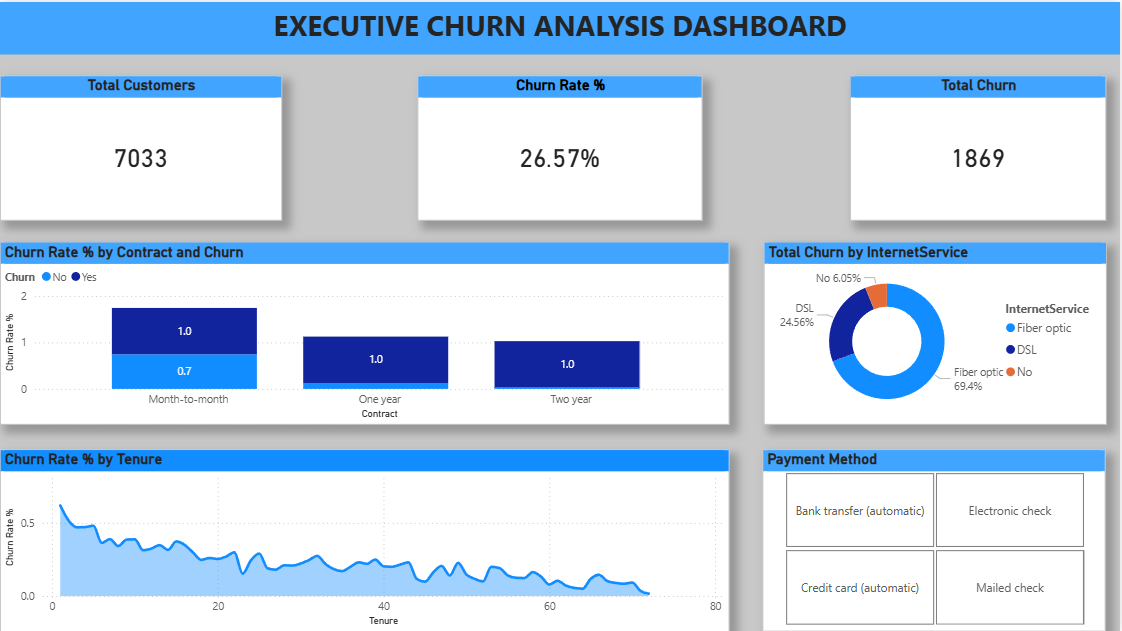

Layout of this report page (visuals, bound fields, positions):
{"tool":"powerbi","page":{"name":"Page 1","canvas":[1280,720],"ordinal":0},"visuals":[{"type":"card","title":"Churn Rate %","fields":{"Values":["final_churn_for_bi.Churn Rate %"]},"box":[476.5,84.5,325.7,165.3],"z":0},{"type":"card","title":"Total Customers","fields":{"Values":["final_churn_for_bi.Total Customers"]},"box":[0,84.5,322.1,165.3],"z":1000},{"type":"columnChart","fields":{"Category":["final_churn_for_bi.Contract"],"Y":["final_churn_for_bi.Churn Rate %"],"Series":["final_churn_for_bi.Churn"]},"box":[0,273.9,834,209.1],"z":2000},{"type":"areaChart","fields":{"Y":["final_churn_for_bi.Churn Rate %"],"Category":["final_churn_for_bi.Tenure"]},"box":[0,511.5,833.7,208.7],"z":3000},{"type":"card","title":"Total Churn","fields":{"Values":["final_churn_for_bi.Total Churn"]},"box":[971.2,84.5,293.2,165.3],"z":4000},{"type":"textbox","box":[0,0,1280.3,59.9],"z":5000},{"type":"donutChart","fields":{"Category":["final_churn_for_bi.InternetService"],"Y":["final_churn_for_bi.Total Churn"]},"box":[872.3,273.9,392.1,208.7],"z":6000},{"type":"slicer","title":"Payment Method ","fields":{"Values":["final_churn_for_bi.PaymentMethod"]},"box":[872,512,392,208],"z":7000}]}

Visuals, with their boxes in screenshot pixels (x1, y1, x2, y2), scaled from the page's 1280x720 canvas onto the 1122x631 screenshot:
"Churn Rate %" card: (418,74,703,219)
"Total Customers" card: (0,74,282,219)
columnChart - final_churn_for_bi.Contract x final_churn_for_bi.Churn Rate %: (0,240,731,423)
areaChart - final_churn_for_bi.Churn Rate % x final_churn_for_bi.Tenure: (0,448,731,630)
"Total Churn" card: (851,74,1108,219)
textbox: (0,0,1121,52)
donutChart - final_churn_for_bi.InternetService x final_churn_for_bi.Total Churn: (765,240,1108,423)
"Payment Method " slicer: (764,449,1108,630)
